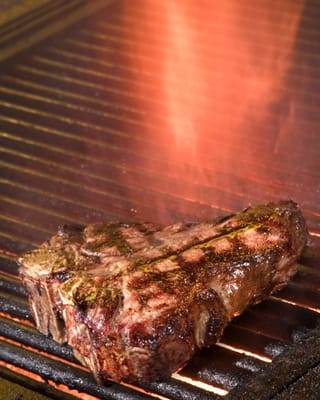sushi: (1, 197, 312, 391)
